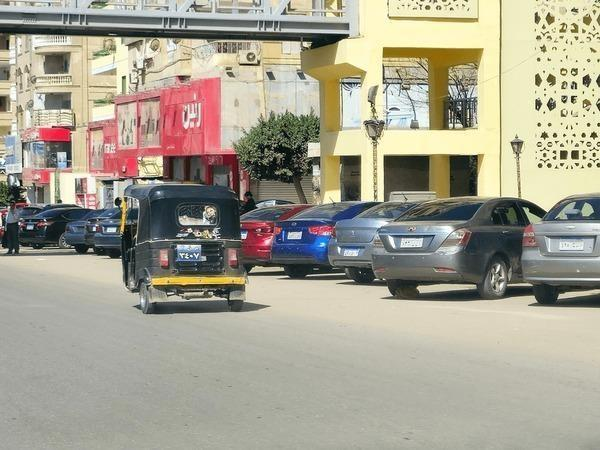keke: (124, 183, 252, 331)
